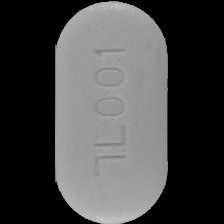61919-450: (0, 0, 224, 224)
